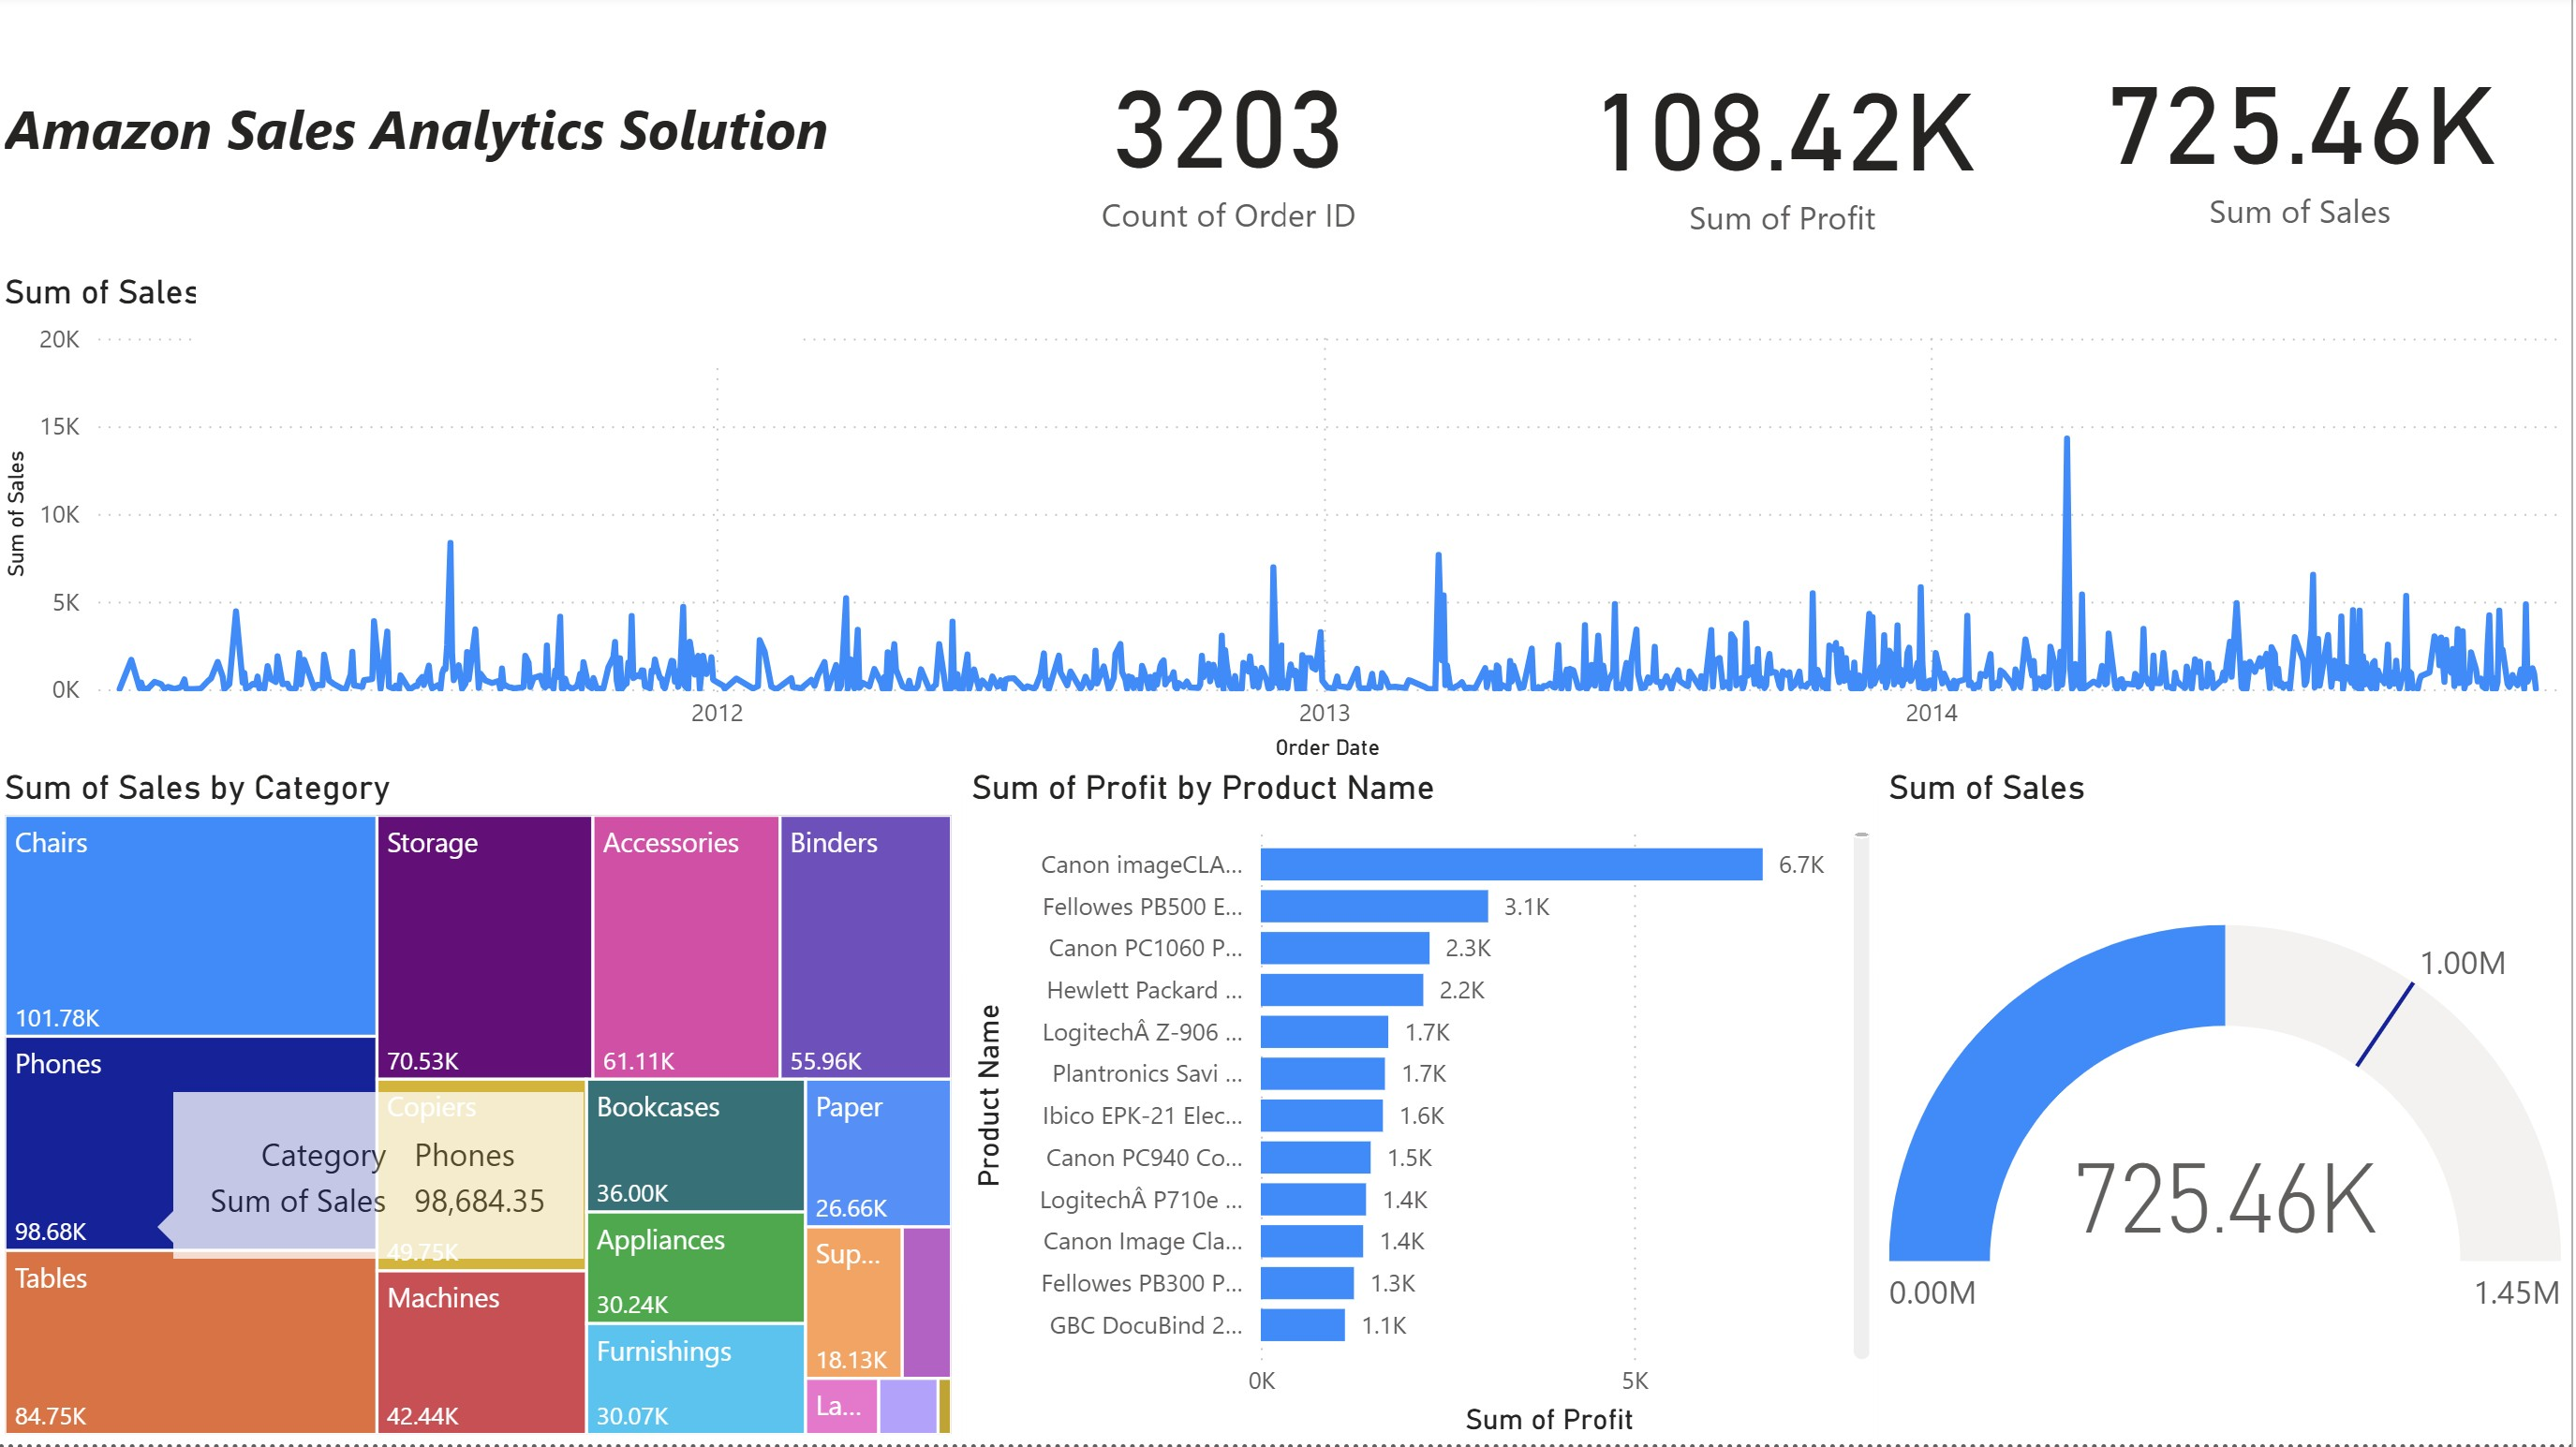

What the dashboard file says about the page in this screenshot:
{"tool":"powerbi","page":{"name":"Page 1","canvas":[1280,720],"ordinal":0},"visuals":[{"type":"card","fields":{"Values":["Sum(Walmart.Sales)"]},"box":[1010.9,0,269.3,138.3],"z":0},{"type":"card","fields":{"Values":["Sum(Walmart.Profit)"]},"box":[764.9,5.4,246,132.9],"z":1},{"type":"card","fields":{"Values":["CountNonNull(Walmart.Order ID)"]},"box":[460,5,305,132.5],"z":2},{"type":"lineChart","fields":{"Category":["Walmart.Order Date"],"Y":["Sum(Walmart.Sales)"]},"box":[0,138.3,1280.2,246],"z":3},{"type":"treemap","fields":{"Group":["Walmart.Category"],"Values":["Sum(Walmart.Sales)"]},"box":[0,383.8,480,336.2],"z":4},{"type":"barChart","fields":{"Category":["Walmart.Product Name"],"Y":["Sum(Walmart.Profit)"]},"box":[480,383.8,456.2,336.2],"z":5},{"type":"gauge","fields":{"Y":["Sum(Walmart.Sales)"]},"box":[936.2,384.2,343.8,335.8],"z":6},{"type":"textbox","box":[100,100,300,82.5],"z":7},{"type":"textbox","box":[0,42.5,531.2,51.2],"z":8}]}

Visuals, with their boxes in screenshot pixels (x1, y1, x2, y2), scaled from the page's 1280x720 canvas onto the 2576x1447 screenshot:
card - Sum(Walmart.Sales): detection(2035, 0, 2575, 278)
card - Sum(Walmart.Profit): detection(1539, 11, 2035, 278)
card - CountNonNull(Walmart.Order ID): detection(925, 10, 1540, 276)
lineChart - Walmart.Order Date x Sum(Walmart.Sales): detection(0, 278, 2575, 773)
treemap - Walmart.Category x Sum(Walmart.Sales): detection(0, 772, 966, 1446)
barChart - Walmart.Product Name x Sum(Walmart.Profit): detection(966, 772, 1884, 1446)
gauge - Sum(Walmart.Sales): detection(1884, 772, 2575, 1446)
textbox: detection(201, 201, 805, 367)
textbox: detection(0, 85, 1069, 188)
